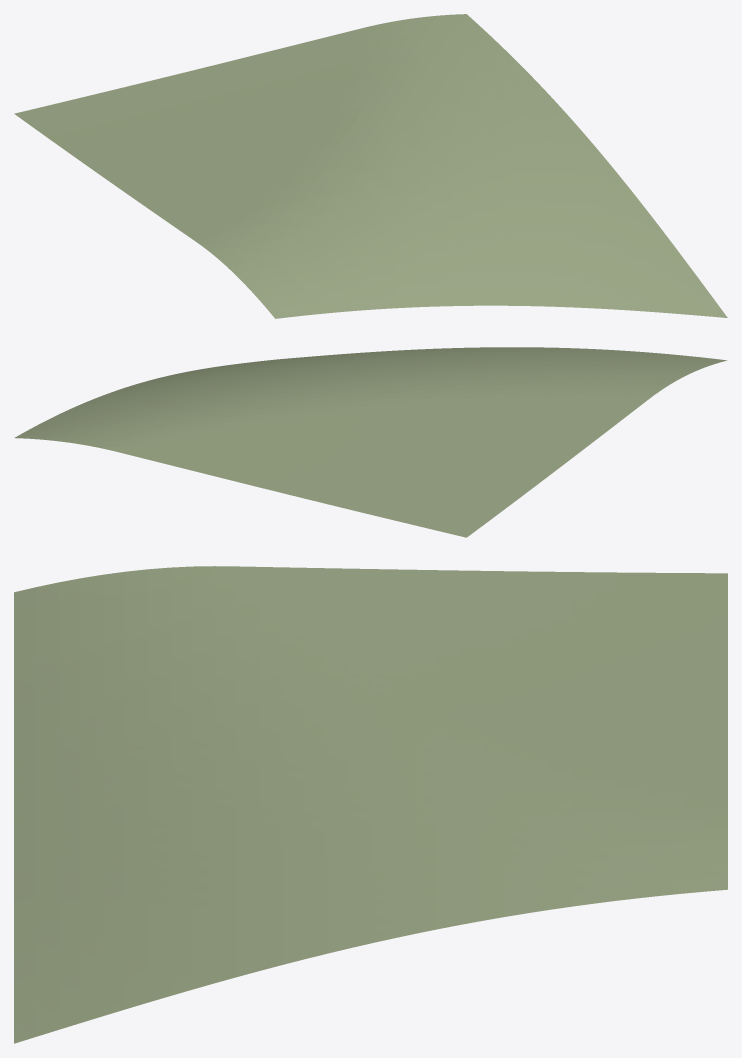
File: desert-27-21.glb
3 renders of one model, top to bottom at view 1: azimuth 30°, elevation 25°; view 2: azimuth 150°, elevation 25°; view 3: azimuth 270°, elevation 25°, orthographic. The views are drawn at different scales.
Visible parts, largest first — view 1: desert-27-21; view 2: desert-27-21; view 3: desert-27-21.
Part boxes in pixels (box(x1,y1,x2,y2)): desert-27-21: box(14, 14, 727, 318); desert-27-21: box(14, 347, 727, 537); desert-27-21: box(14, 566, 727, 1043).
Size of the model in its own units: 512 by 139 by 512.
